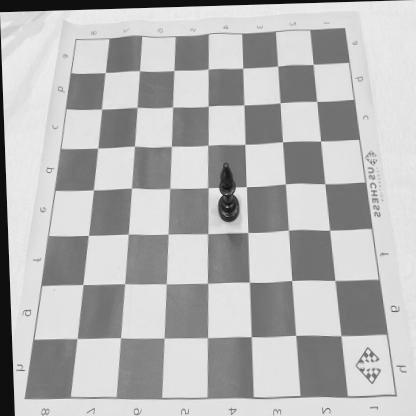black-bishop: (214, 160, 239, 222)
